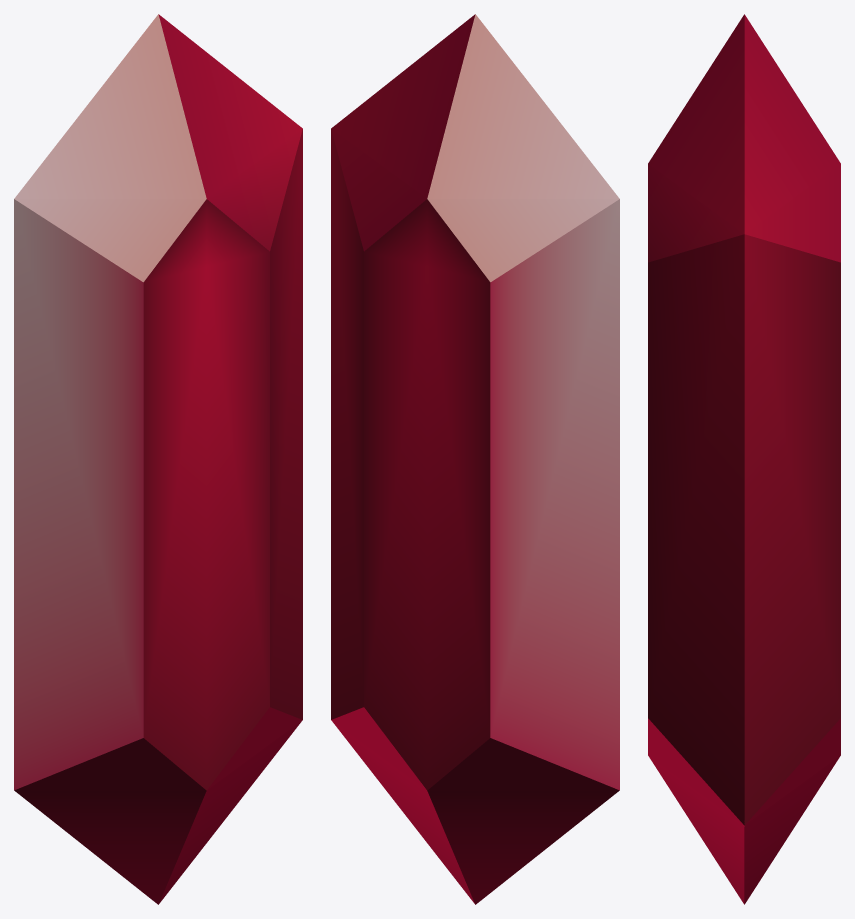
File: e_3D_manera_ruby.dae
3 renders of one model, left to right at view 1: azimuth 30°, elevation 25°; view 2: azimuth 150°, elevation 25°; view 3: azimuth 270°, elevation 25°, orthographic.
Visible parts, largest first — view 1: |ruby; view 2: |ruby; view 3: |ruby.
Part boxes in pixels (x1,y1,x2,y2): |ruby: (14,14,302,904); |ruby: (331,14,619,904); |ruby: (648,14,840,904).
Bounding box in the file's own units: 0.5224 × 0.3023 × 1.54.
